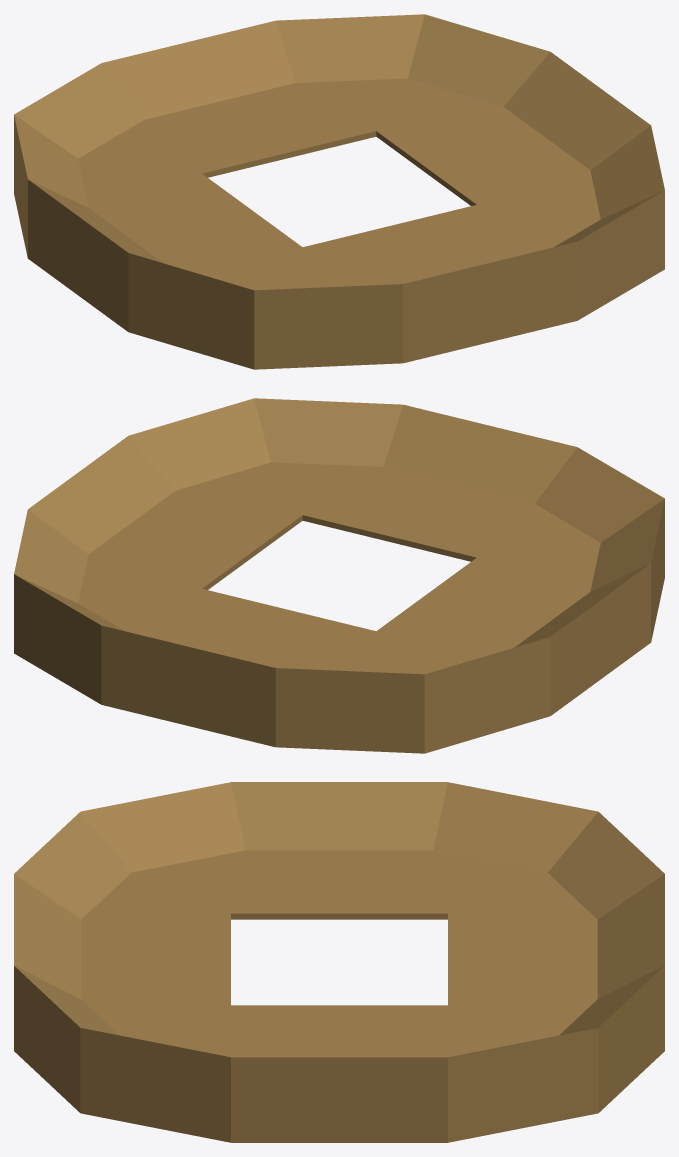
File: coin.fbx
3 views of the same model, one above another, from view 1: azimuth 30°, elevation 25°; view 2: azimuth 150°, elevation 25°; view 3: azimuth 270°, elevation 25° (orthographic). The views are drawn at different scales.
Parts seen in each view (by area): view 1: coin; view 2: coin; view 3: coin.
Part boxes in pixels (<box>): coin: <box>14,14,664,369</box>; coin: <box>14,398,664,753</box>; coin: <box>14,782,664,1142</box>.
Size of the model in its own units: 225 by 32.63 by 225.
